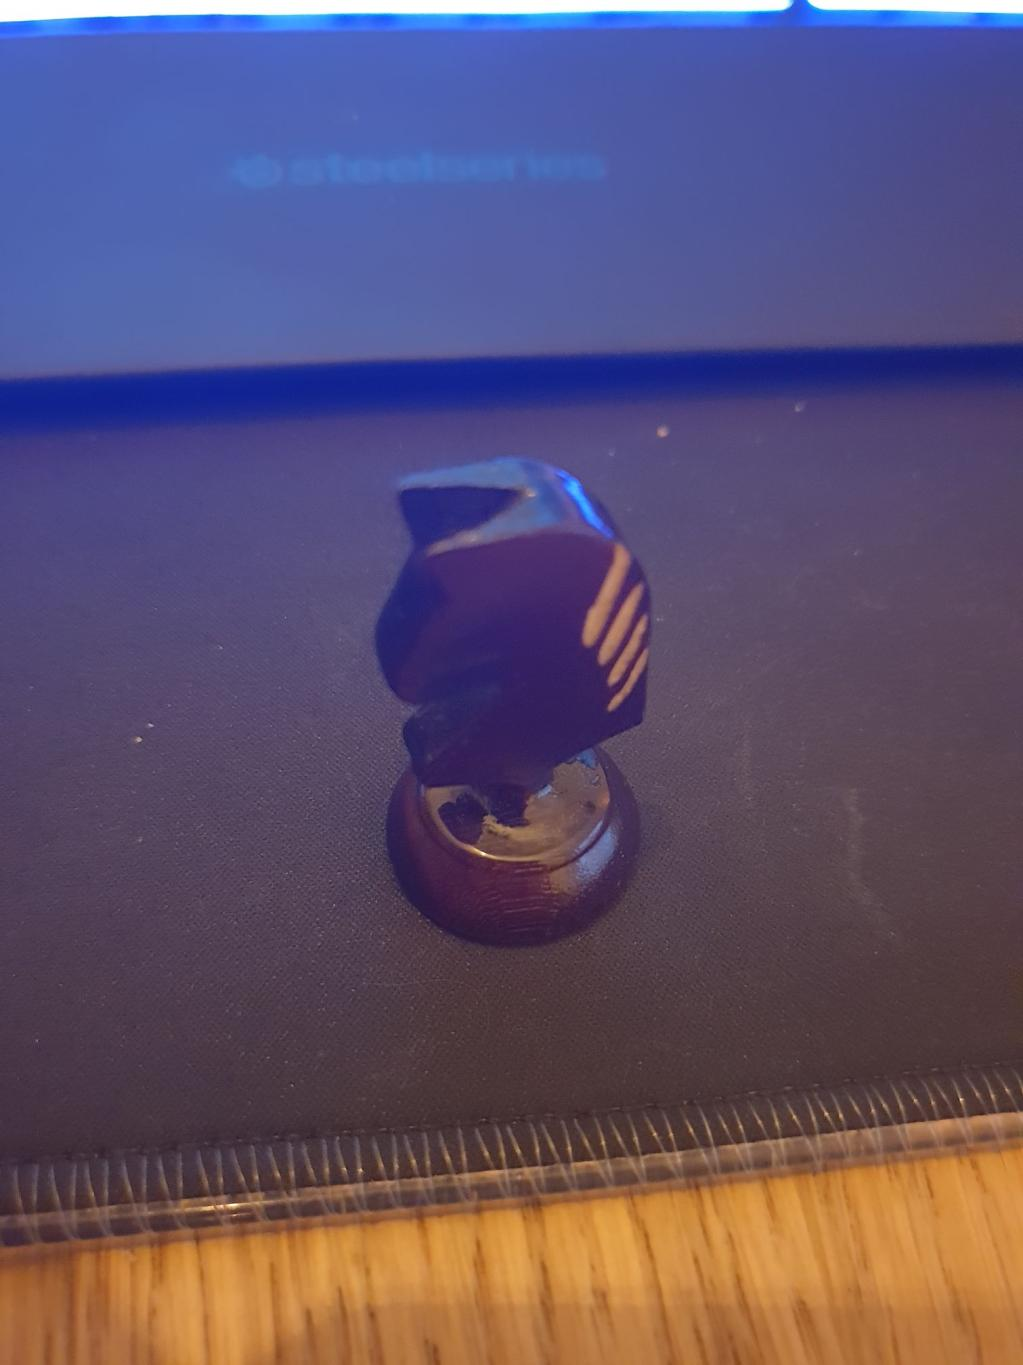bknight: (376, 457, 658, 946)
